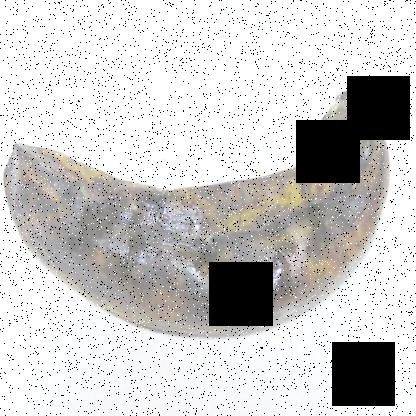rotten: (1, 75, 404, 366)
